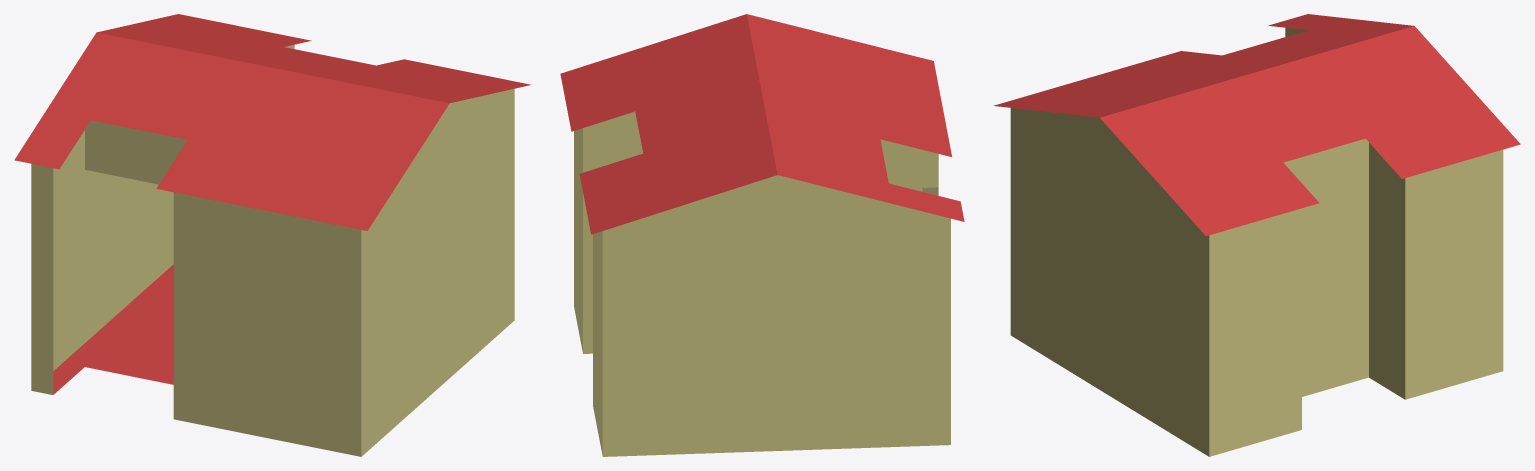
3 views of the same model, side by side, from view 1: azimuth 30°, elevation 25°; view 2: azimuth 150°, elevation 25°; view 3: azimuth 270°, elevation 25° (orthographic). The views are drawn at different scales.
Size of the model in its own units: 20.72 by 20.8 by 12.24.
